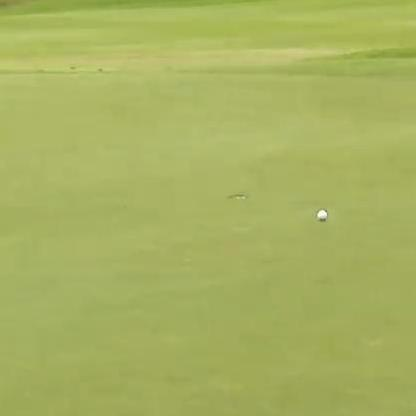golfball: (315, 207, 327, 221)
